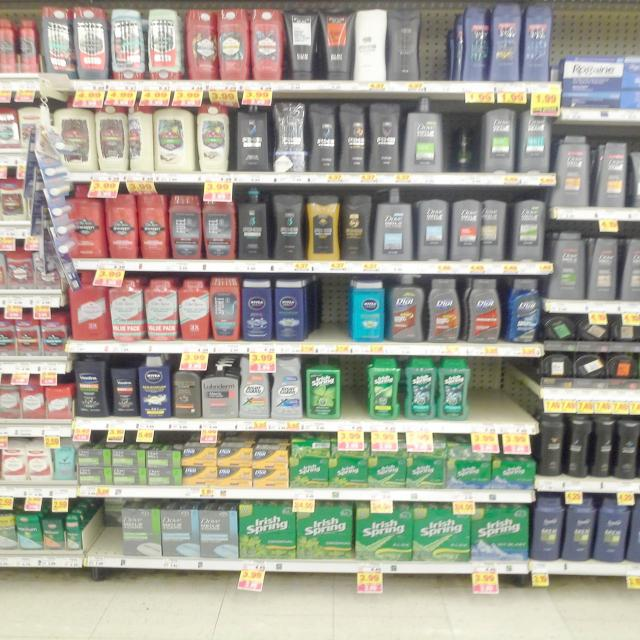empty_space: (418, 10, 458, 82), (475, 362, 525, 418), (306, 281, 350, 339), (89, 502, 123, 554), (447, 115, 477, 173), (347, 366, 376, 416)
